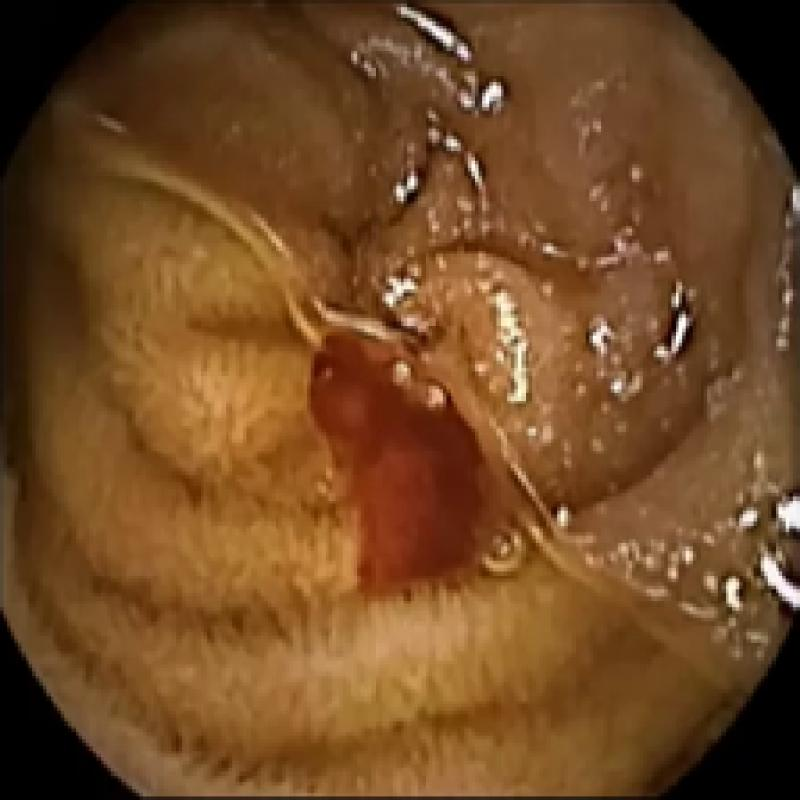bleeding: (311, 336, 482, 586)
